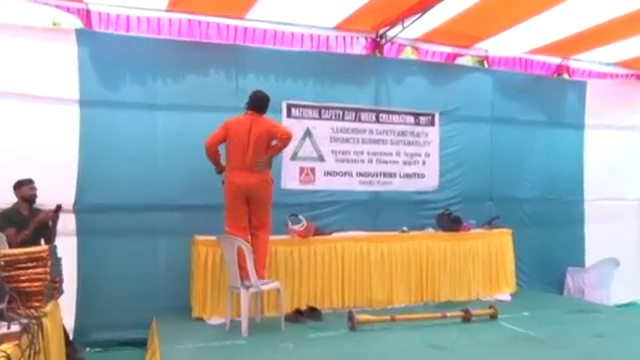helmet_off: (12, 177, 37, 206), (245, 90, 271, 116)
person: (202, 89, 292, 288), (1, 176, 63, 250)
